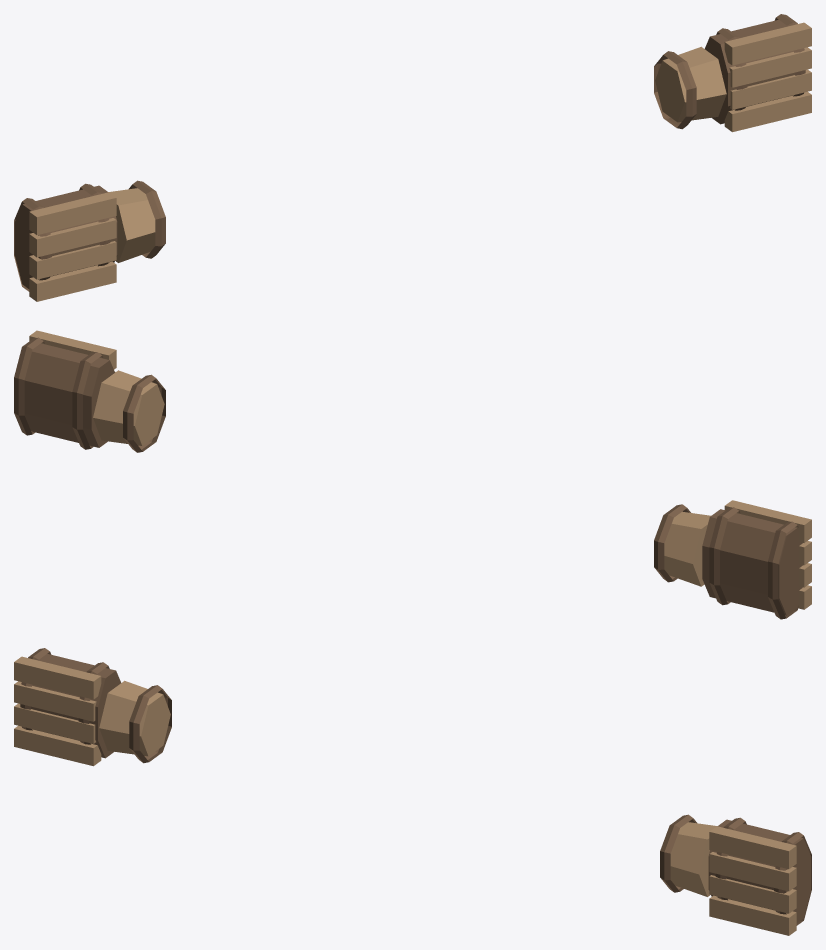
The model's file is splintguard.glb.
3 views of the same model, one above another, from view 1: azimuth 30°, elevation 25°; view 2: azimuth 150°, elevation 25°; view 3: azimuth 330°, elevation 25° (orthographic).
Visible parts, largest first — view 1: Fist1R, Fist1L, LowerArmL, LowerArmR; view 2: Fist1R, Fist1L, LowerArmL, LowerArmR; view 3: Fist1L, Fist1R, LowerArmR, LowerArmL.
Boxes of the visible parts, <box> form: Fist1R: <box>14,183,117,301</box>; Fist1L: <box>705,14,811,132</box>; LowerArmL: <box>654,46,726,129</box>; LowerArmR: <box>108,180,165,262</box>; Fist1R: <box>702,500,811,619</box>; Fist1L: <box>14,330,116,449</box>; LowerArmL: <box>93,370,165,452</box>; LowerArmR: <box>654,504,710,586</box>; Fist1L: <box>708,817,811,935</box>; Fist1R: <box>14,648,120,766</box>; LowerArmR: <box>99,680,171,763</box>; LowerArmL: <box>660,814,717,896</box>.
Size of the model in its own units: 2.92 by 0.3215 by 0.2244.
